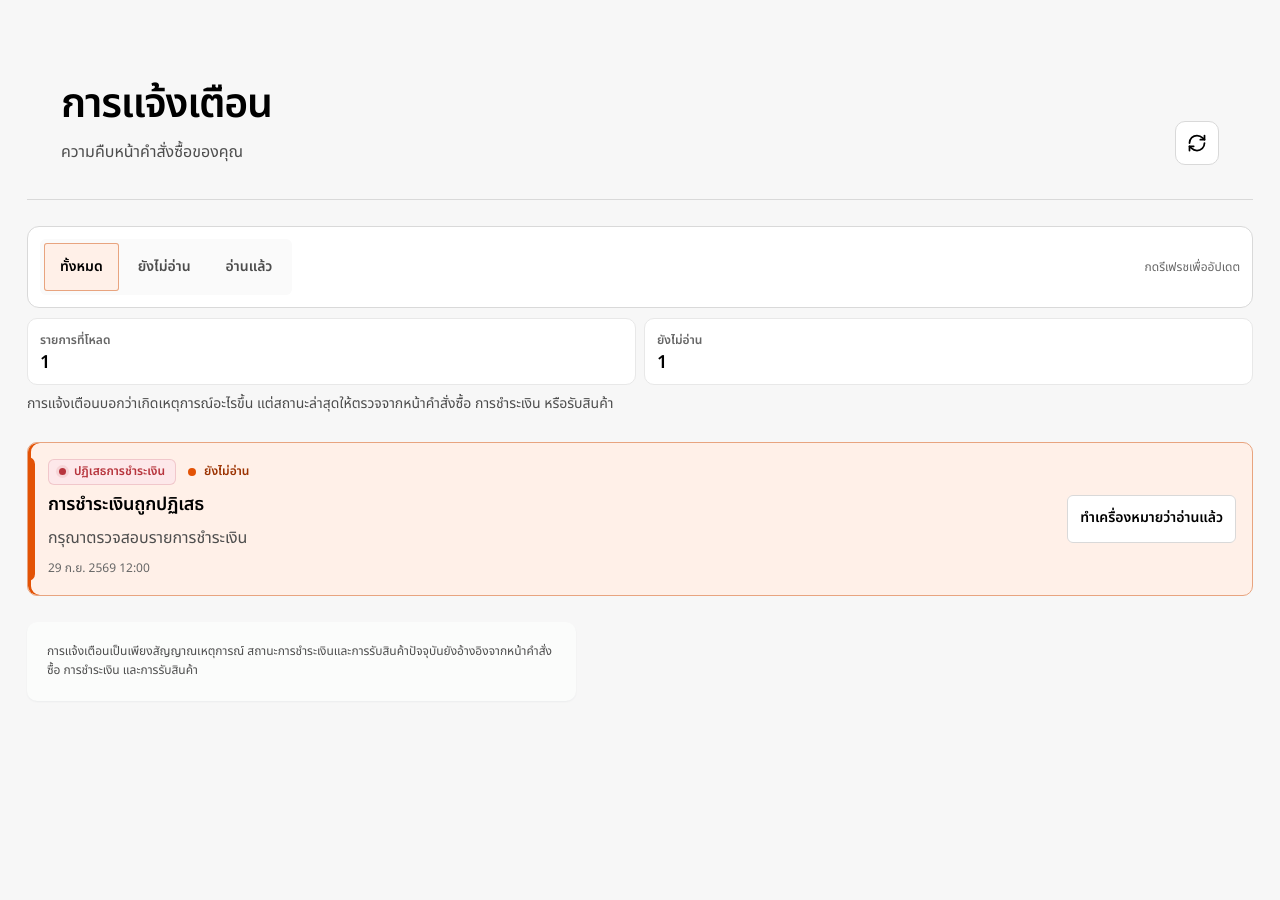
Test: NotificationsView › refreshes the current filter without changing pagination semantics
The image size is (1280, 900).
Expected: the heading "การชำระเงินถูกปฏิเสธ" is shown, [48, 491, 204, 518]
Click the button named "รีเฟรชรายการ": click(1197, 143) [1175, 121, 1219, 165]
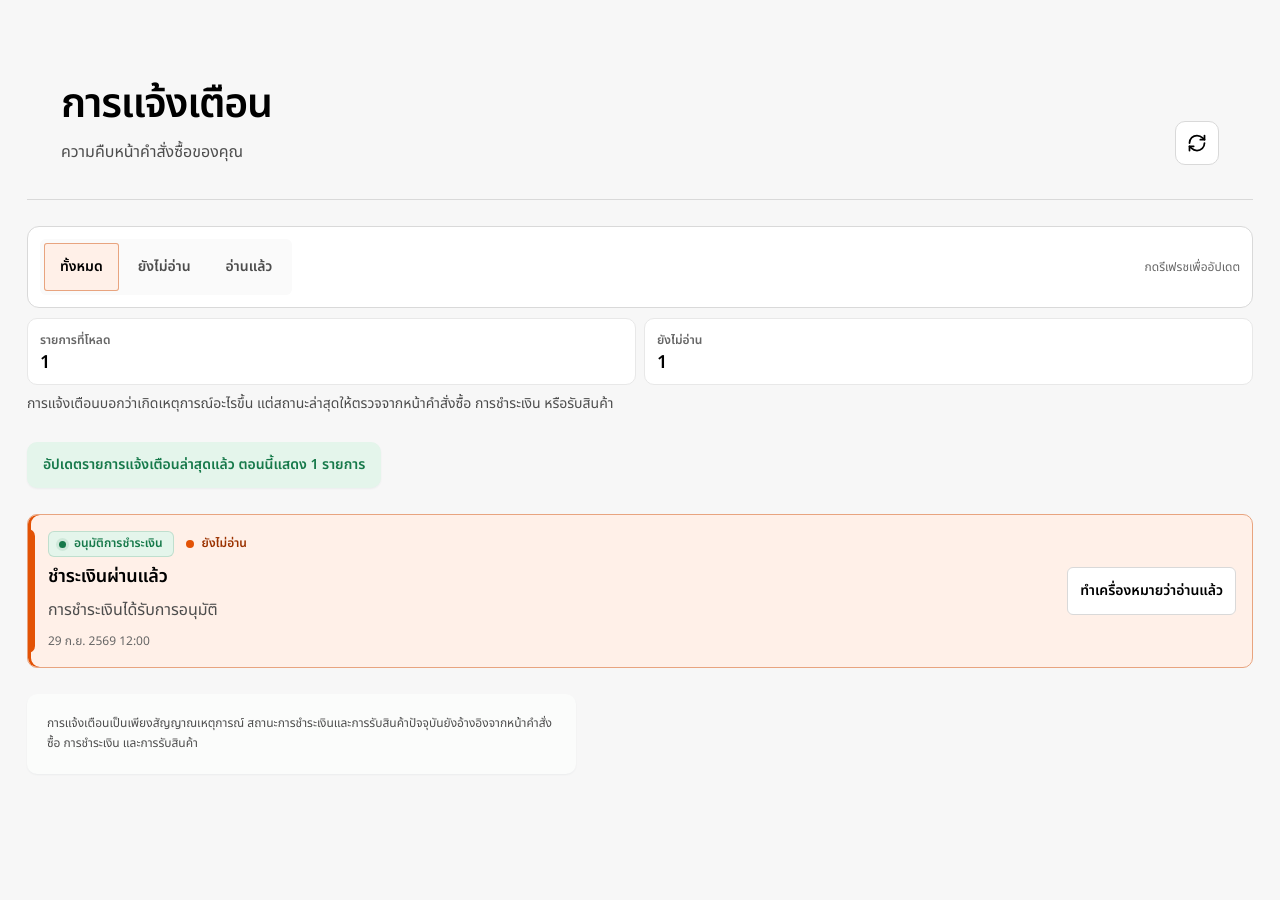
Now the heading "ชำระเงินผ่านแล้ว" is shown, box [48, 563, 168, 590]
Now the text "อัปเดตรายการแจ้งเตือนล่าสุดแล้ว ตอนนี้แสดง 1 รายการ" is shown, box [27, 442, 381, 488]
